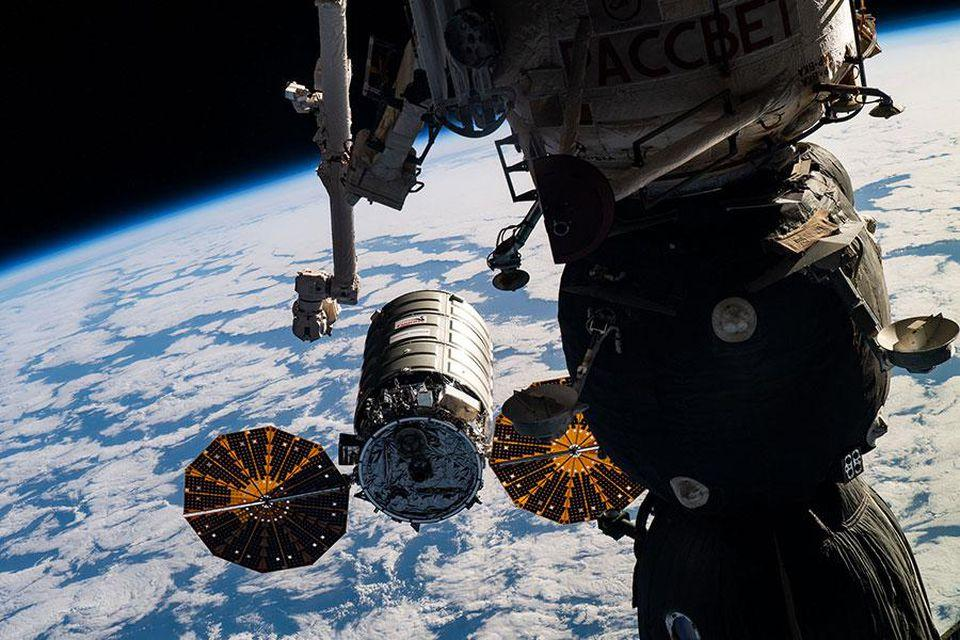antenna: (873, 305, 955, 374), (504, 383, 591, 436), (497, 268, 531, 292)
body: (352, 291, 487, 522)
solar: (177, 424, 347, 567), (496, 380, 645, 535)
thruster: (409, 456, 430, 487)
